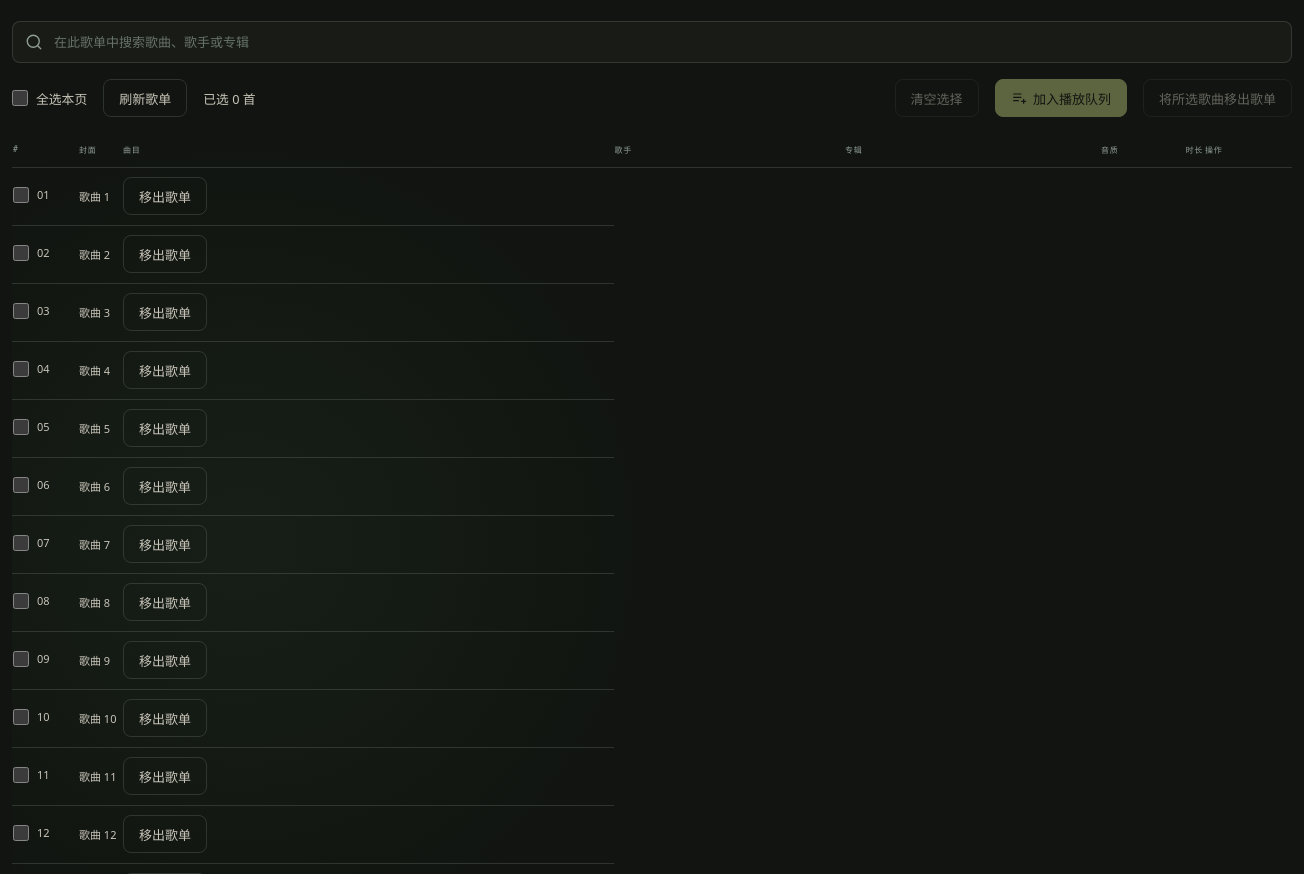
Scenario: playlist search and bulk queue selection › 搜索覆盖未浏览的歌曲、歌手、专辑，忽略大小写及首尾空格并复用完整缓存
The width and height of the screenshot is (1304, 874).
Type "  mOoN  " into the search field at (661, 42), box [52, 22, 1270, 62]
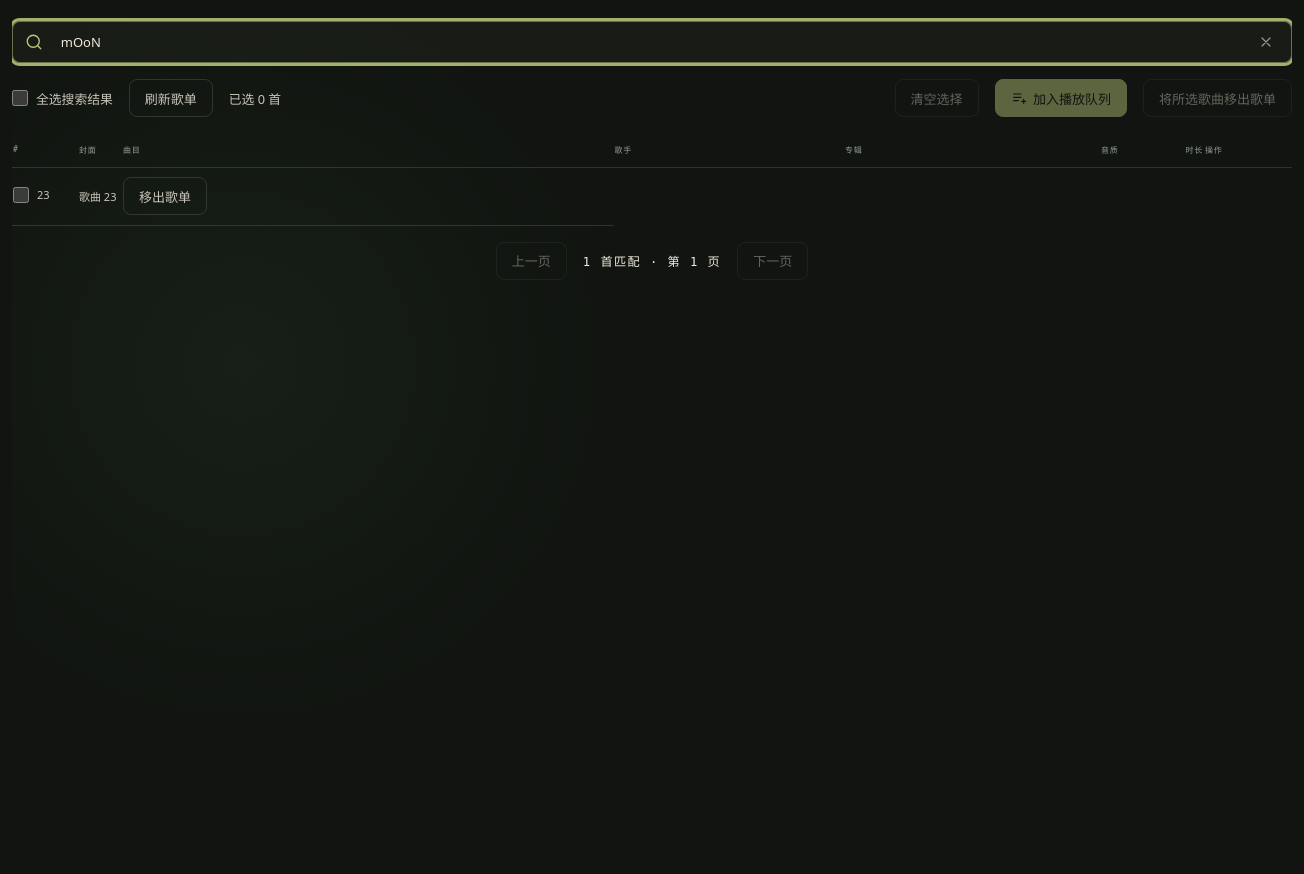
Now the text "歌曲 23" is shown, box [78, 167, 122, 225]
Now the text "歌曲 1" is gone
Clear the search field at (648, 42), box [52, 22, 1243, 62]
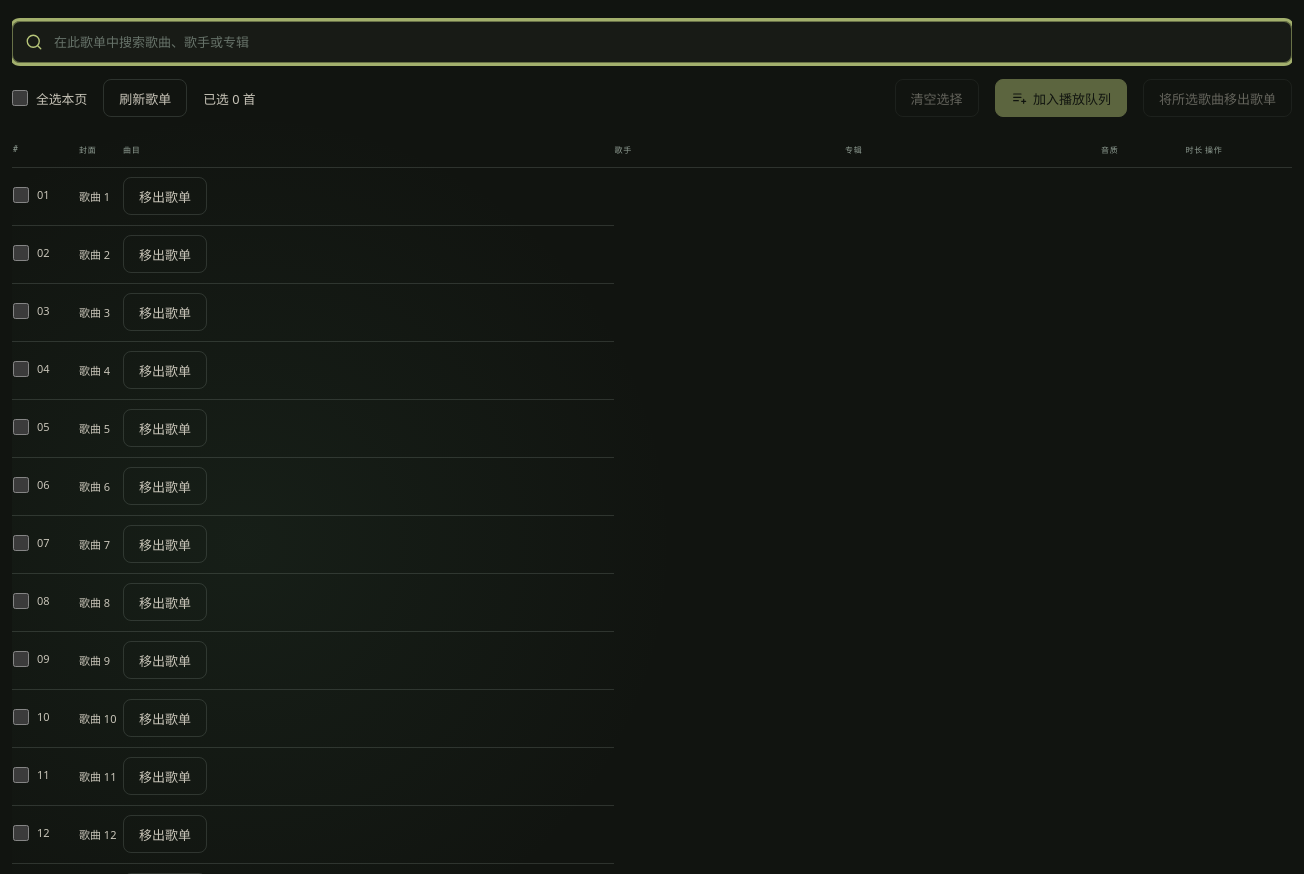
Type "独立歌手" into the search field at (661, 42), box [52, 22, 1270, 62]
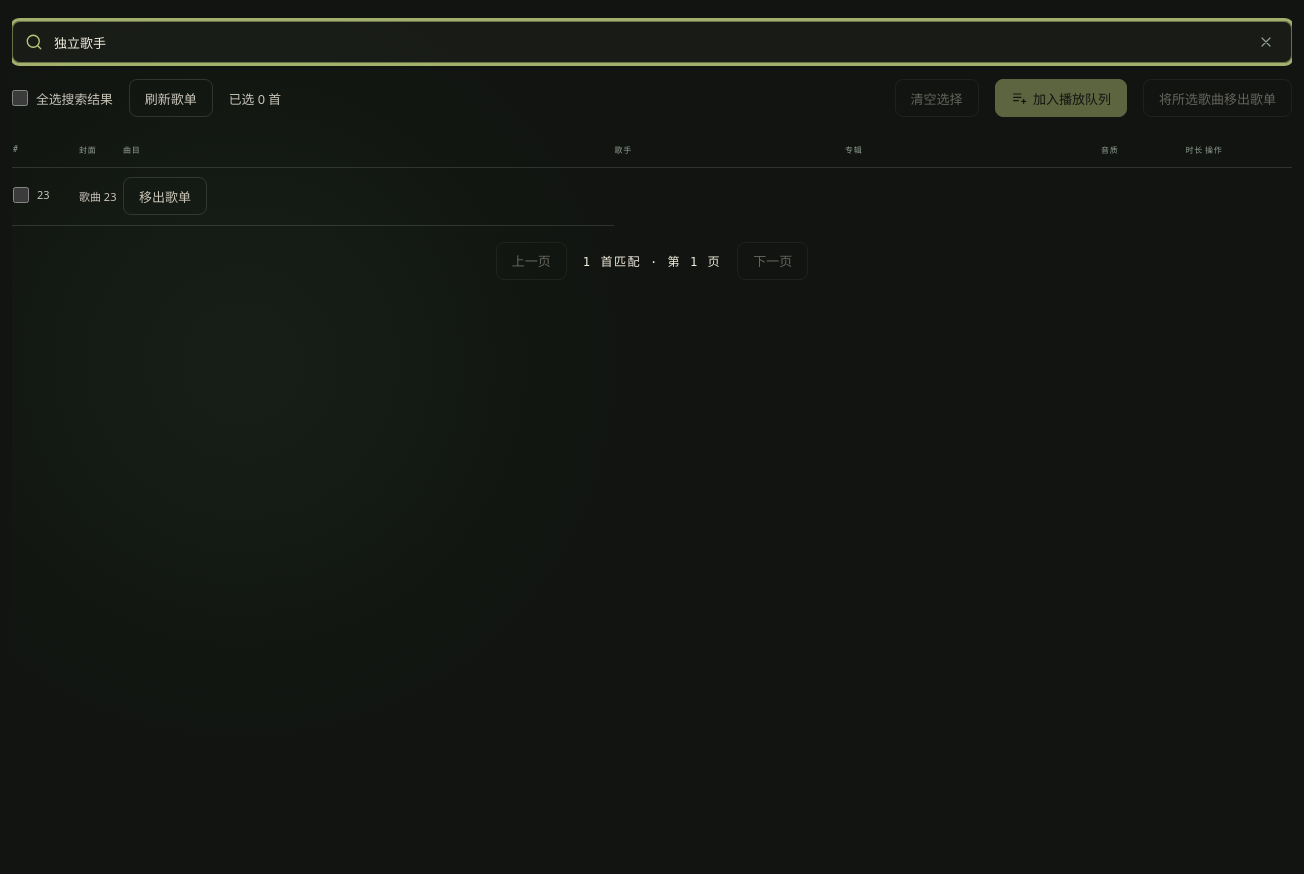
Now the text "歌曲 23" is shown, box [78, 167, 122, 225]
Clear the search field at (648, 42), box [52, 22, 1243, 62]
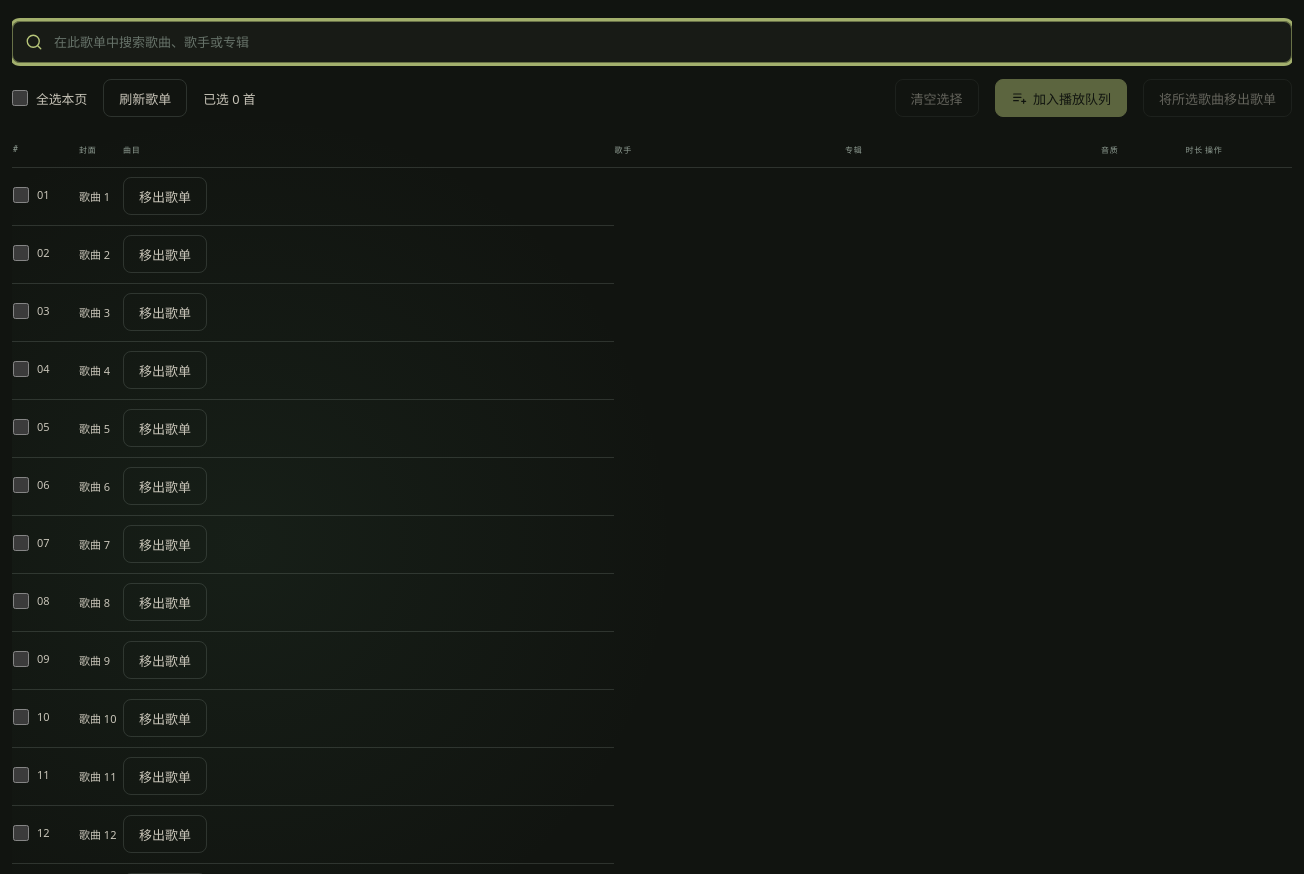
Type "不存在" into the search field at (661, 42), box [52, 22, 1270, 62]
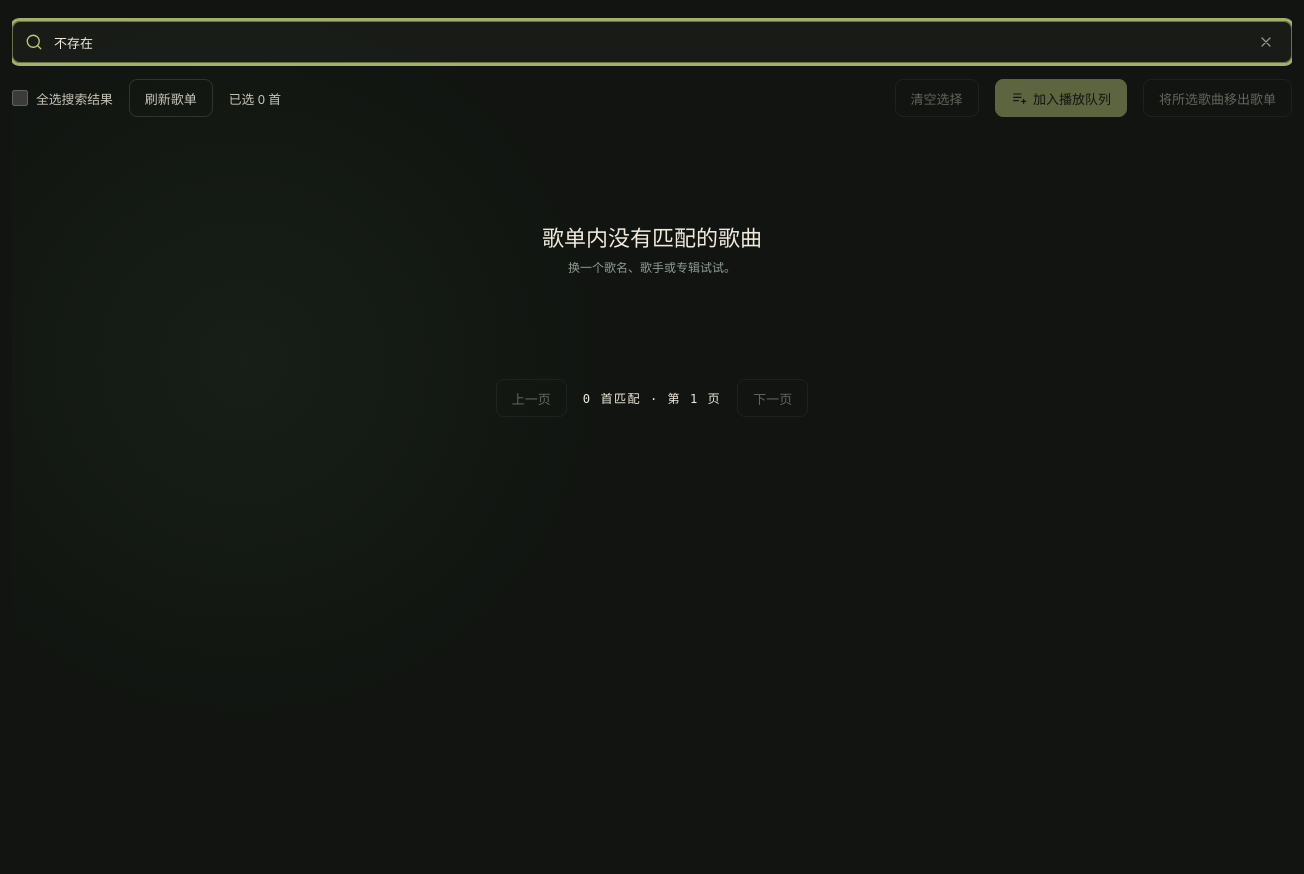
Now the text "歌单内没有匹配的歌曲" is shown, box [542, 220, 762, 252]
Click the button named "清空歌单搜索" at (1266, 42), box [1252, 28, 1279, 56]
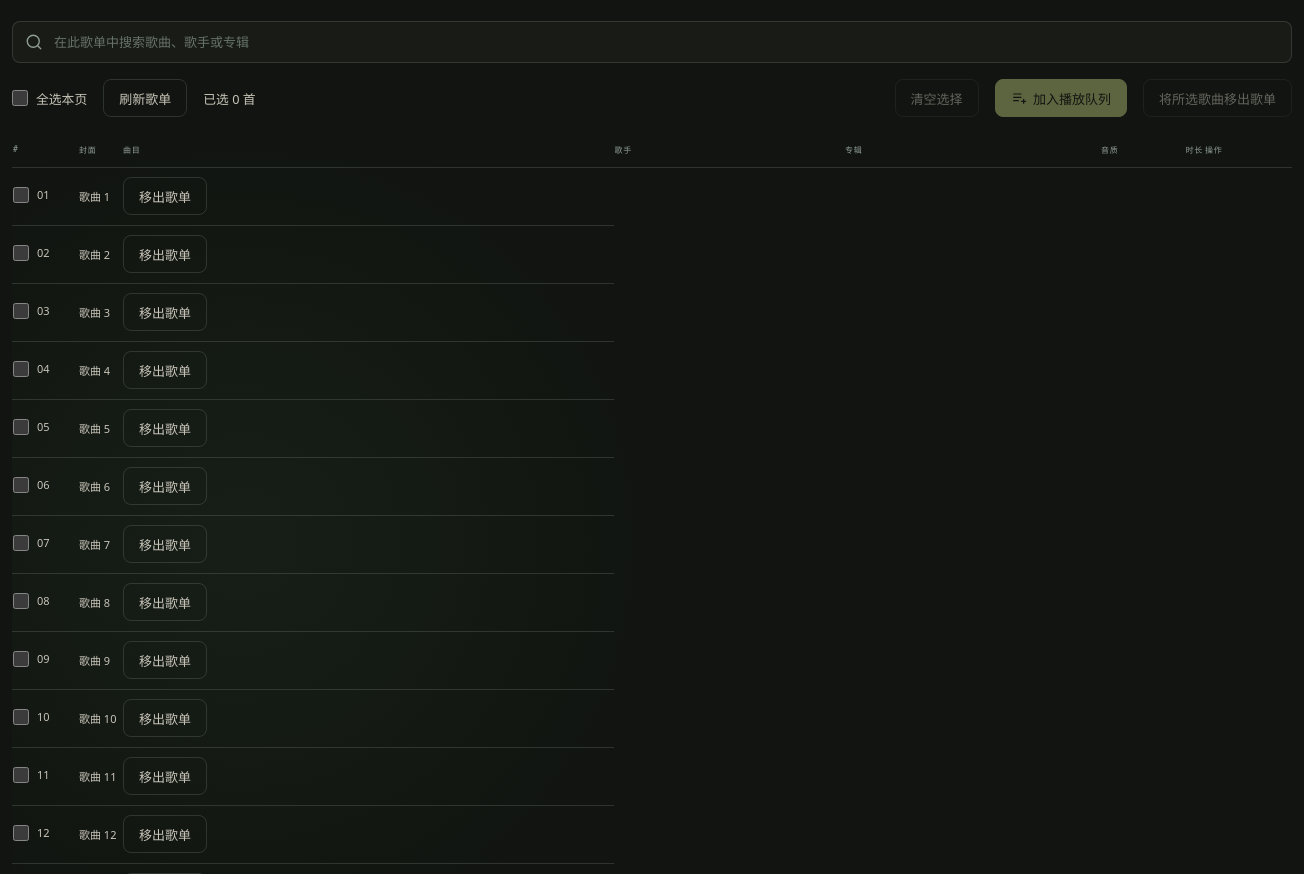
Now the text "歌曲 1" is shown, box [78, 167, 122, 225]
